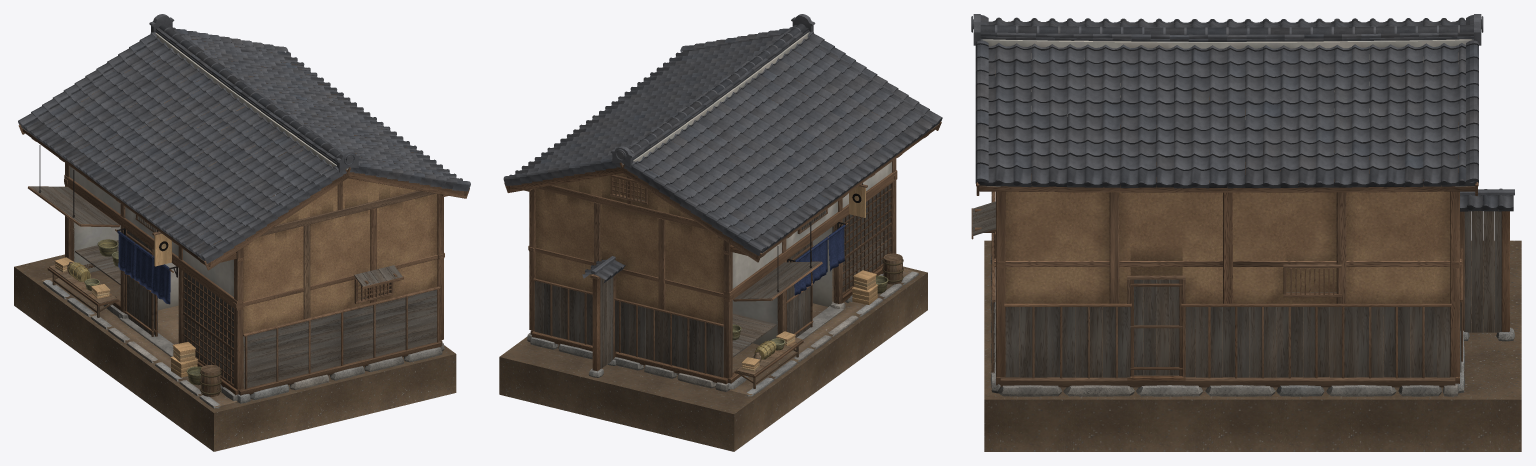
The model's file is machiya_d28.glb.
3 views of the same model, side by side, from view 1: azimuth 30°, elevation 25°; view 2: azimuth 150°, elevation 25°; view 3: azimuth 270°, elevation 25° (orthographic). The views are drawn at different scales.
Parts seen in each view (by area): view 1: machiya_d28_tile_ibushi, machiya_d28_earth_floor, machiya_d28_wood_dark, machiya_d28_plaster_earth, machiya_d28_wood_weathered, machiya_d28_stone_granite, machiya_d28_plaster_white, machiya_d28_noren_d, machiya_d28_wood_fresh, machiya_d28_plaster_white#0.8, machiya_d28_wood_aged, machiya_d28_straw#olive (+1 smaller); view 2: machiya_d28_tile_ibushi, machiya_d28_earth_floor, machiya_d28_wood_dark, machiya_d28_plaster_earth, machiya_d28_wood_weathered, machiya_d28_stone_granite, machiya_d28_plaster_white, machiya_d28_plaster_white#0.8, machiya_d28_wood_fresh, machiya_d28_noren_d, machiya_d28_wood_aged, machiya_d28_tile_manju (+1 smaller); view 3: machiya_d28_tile_ibushi, machiya_d28_plaster_earth, machiya_d28_earth_floor, machiya_d28_wood_weathered, machiya_d28_wood_dark, machiya_d28_stone_granite, machiya_d28_plaster_white, machiya_d28_tile_manju.
Boxes of the visible parts, x1,y1,x2,y2 form: machiya_d28_tile_ibushi: (18,14,470,263); machiya_d28_earth_floor: (14,254,456,451); machiya_d28_wood_dark: (18,39,469,395); machiya_d28_plaster_earth: (81,49,437,333); machiya_d28_wood_weathered: (21,42,436,388); machiya_d28_stone_granite: (43,268,444,408); machiya_d28_plaster_white: (69,33,370,296); machiya_d28_noren_d: (117,231,170,304); machiya_d28_wood_fresh: (54,233,198,377); machiya_d28_plaster_white#0.8: (73,222,244,343); machiya_d28_wood_aged: (49,265,220,396); machiya_d28_straw#olive: (84,239,201,385); machiya_d28_tile_ibushi: (503,14,942,283); machiya_d28_earth_floor: (499,266,927,451); machiya_d28_wood_dark: (504,51,941,384); machiya_d28_plaster_earth: (535,53,846,324); machiya_d28_wood_weathered: (534,124,938,377); machiya_d28_stone_granite: (527,271,918,396); machiya_d28_plaster_white: (622,32,891,288); machiya_d28_plaster_white#0.8: (677,227,832,375); machiya_d28_wood_fresh: (742,186,878,371); machiya_d28_noren_d: (794,224,845,295); machiya_d28_wood_aged: (736,253,902,388); machiya_d28_tile_manju: (509,52,941,279); machiya_d28_tile_ibushi: (971,14,1514,211); machiya_d28_plaster_earth: (1005,93,1450,303); machiya_d28_earth_floor: (984,240,1521,451); machiya_d28_wood_weathered: (972,52,1501,377); machiya_d28_wood_dark: (971,70,1509,387); machiya_d28_stone_granite: (990,256,1514,396); machiya_d28_plaster_white: (982,39,1472,119); machiya_d28_tile_manju: (977,17,1504,210).
Size of the model in its own units: 6.4 by 6.18 by 8.48.
Materials: 15 (13 with a texture image).
